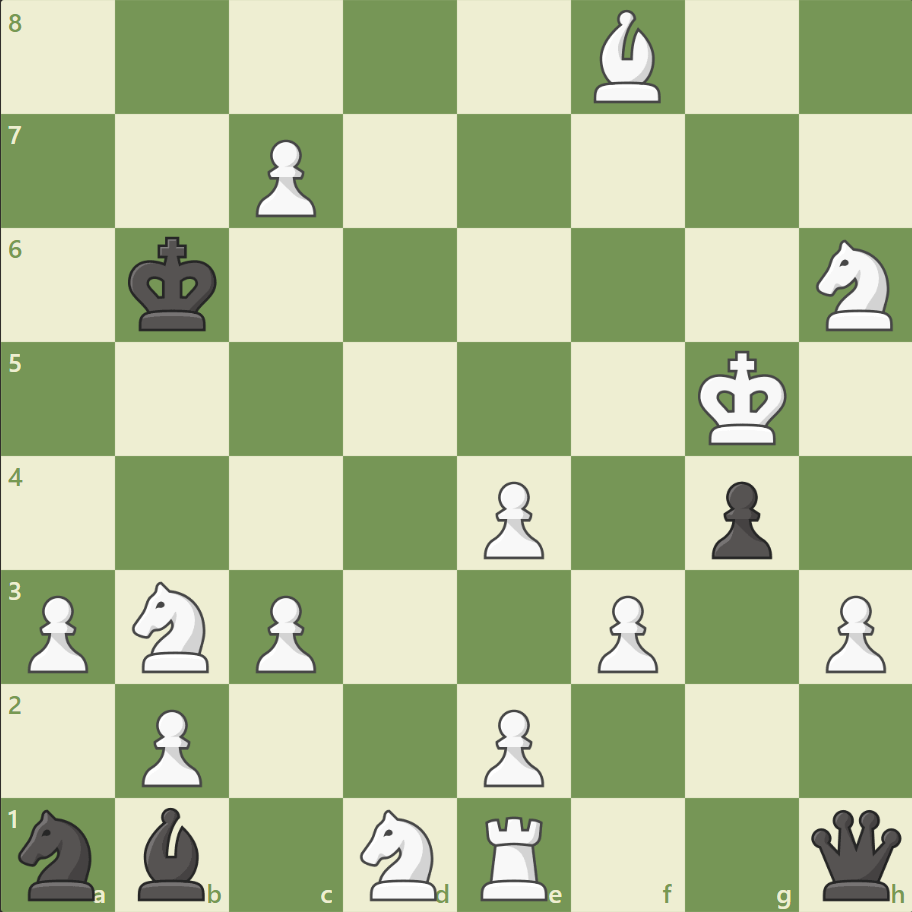B: (585, 6, 669, 109)
K: (692, 344, 792, 452)
N: (124, 575, 222, 677), (351, 802, 449, 904), (806, 234, 903, 337)
P: (247, 132, 322, 223), (474, 473, 549, 564), (20, 586, 95, 677), (247, 586, 322, 677), (133, 700, 208, 791), (474, 700, 549, 791), (588, 586, 662, 677), (815, 586, 889, 677)
R: (473, 806, 556, 904)
b: (131, 801, 215, 904)
k: (124, 231, 224, 339)
n: (11, 802, 108, 904)
p: (701, 473, 776, 564)
q: (805, 804, 904, 903)
